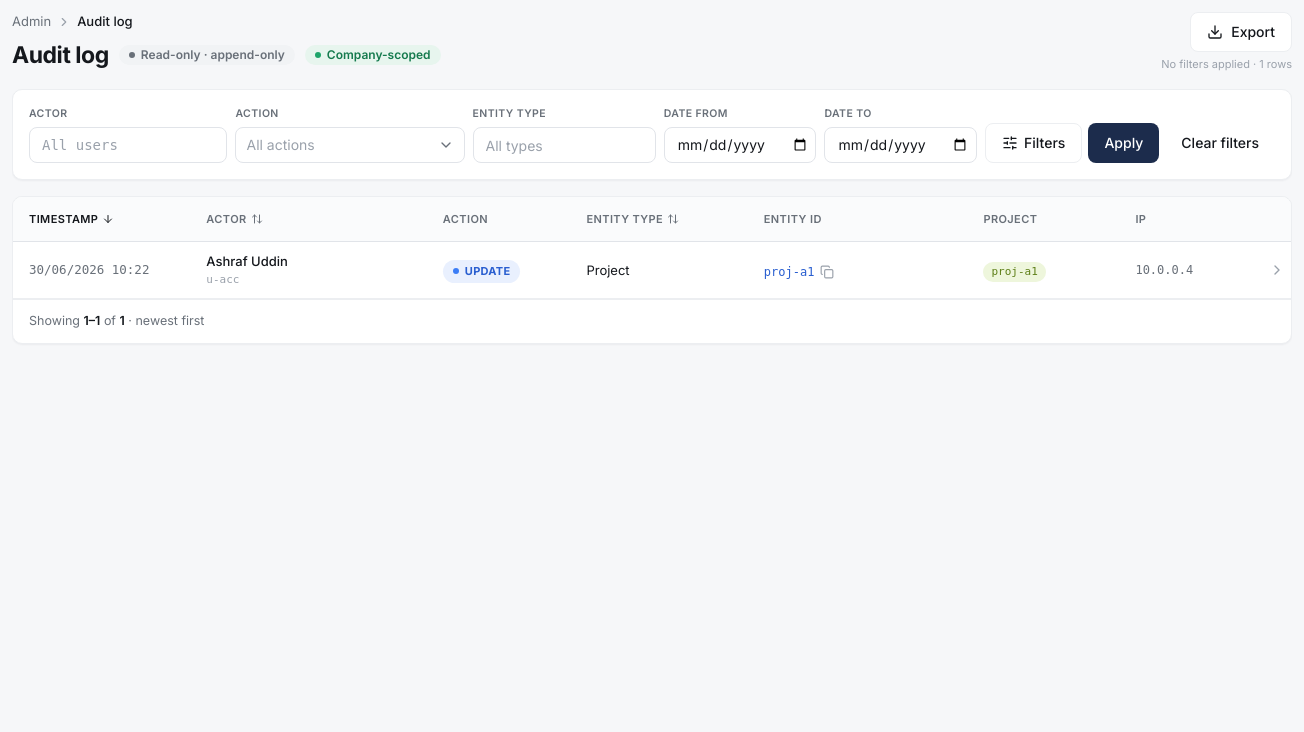
Test case: AuditLogScreen — export CTA (FR-AUD-028; FULLY WIRED, not stubbed) › disables export and explains when 2+ actions are selected (endpoint takes one action)
This screenshot has width=1304, height=732.
Expected: the row with test id "audit-row-log-1" is shown, [13,242,1291,299]
Note: Open the Action dropdown, then select two actions (endpoint takes one).
Click the button with test id "audit-action-trigger" at [350, 145], box [236,127,464,163]
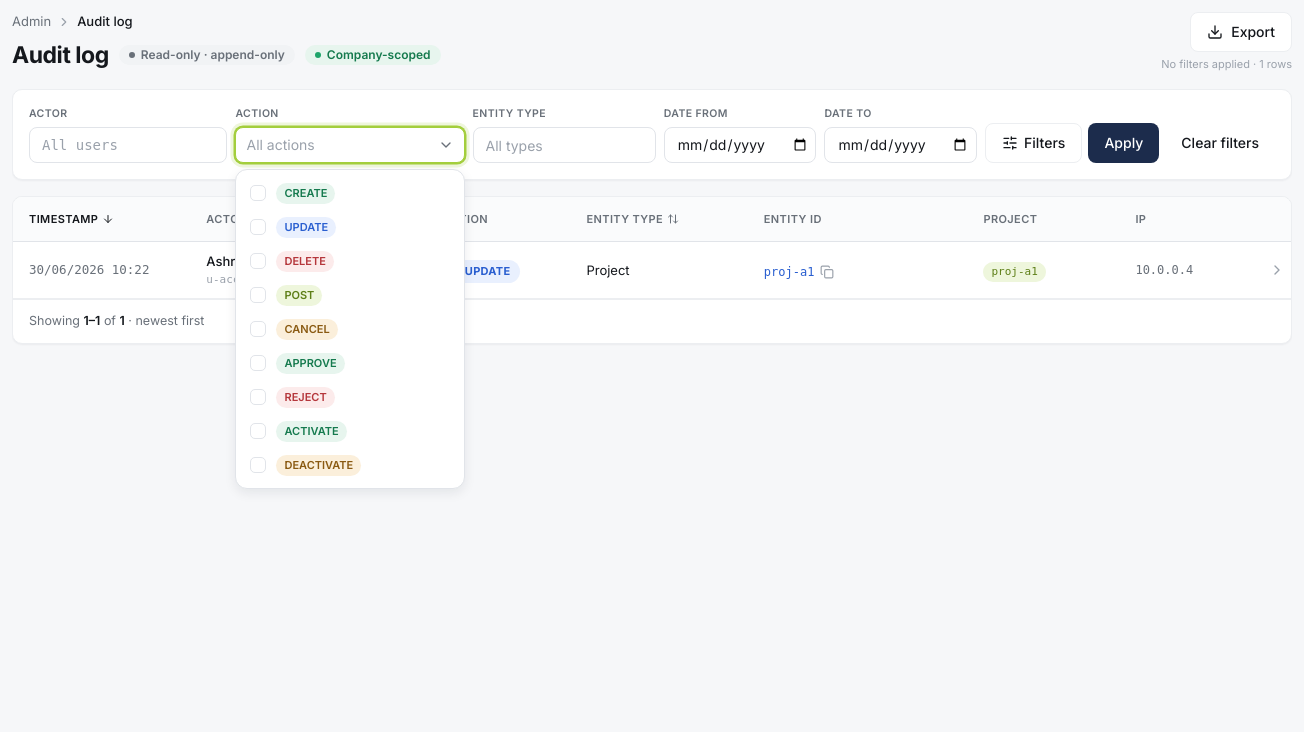
Click the checkbox with test id "audit-action-UPDATE" at [350, 227], box [242,210,458,244]
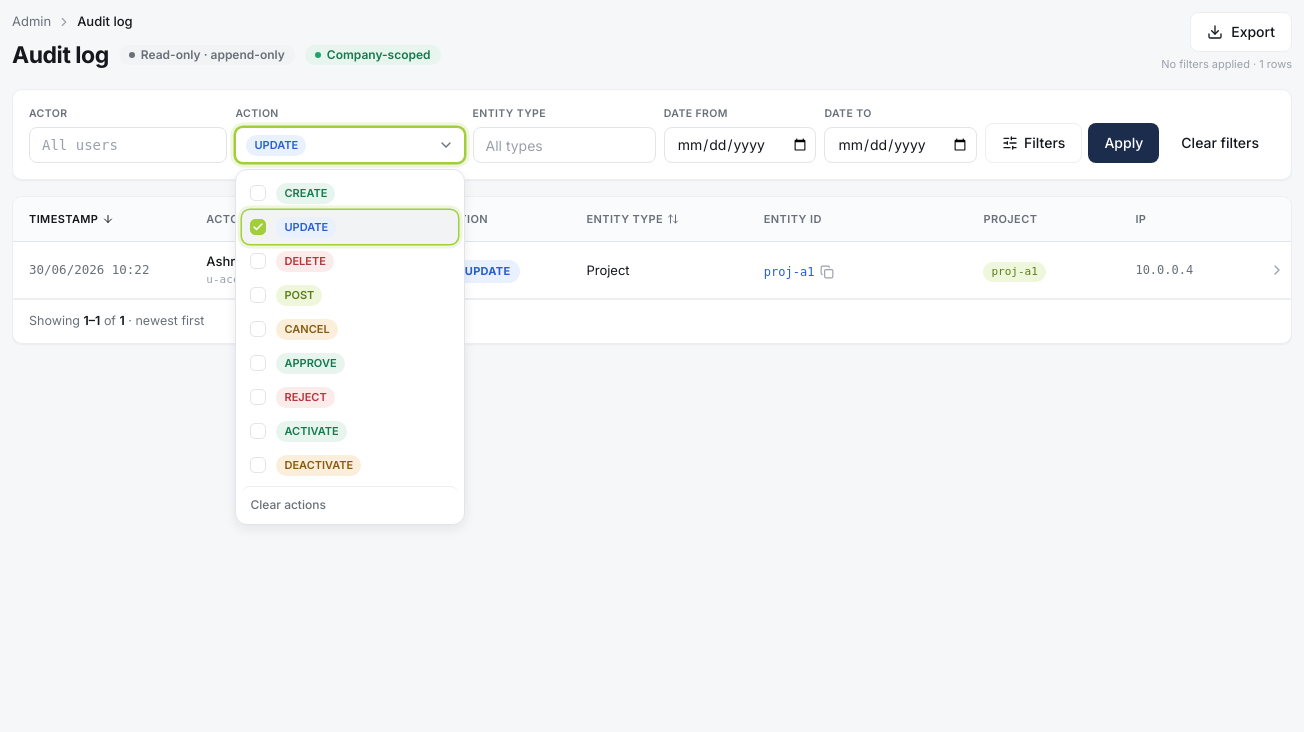
Click the checkbox with test id "audit-action-POST" at [350, 295], box [242,278,458,312]
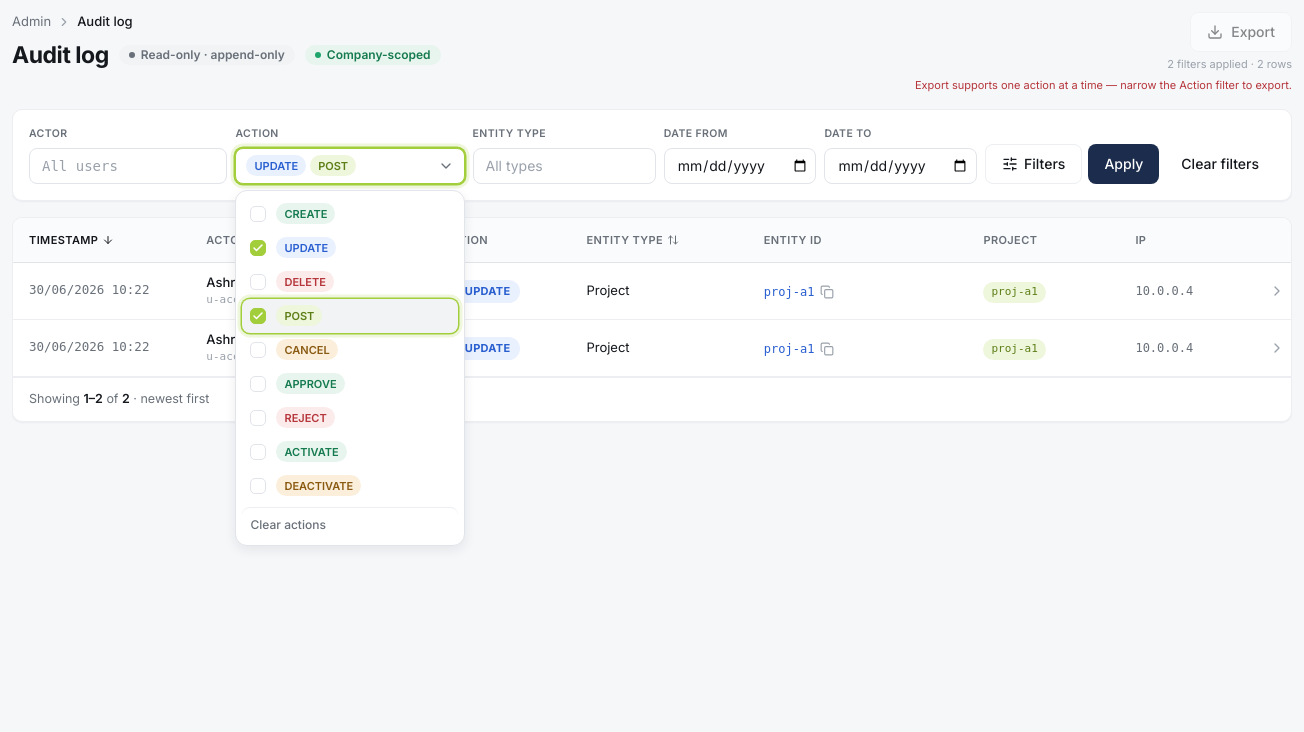
Result: the button with test id "audit-export-button" is disabled at [1190,12,1292,52]
Result: the text with test id "audit-export-multi-action-hint" is shown at [915,76,1292,93]
